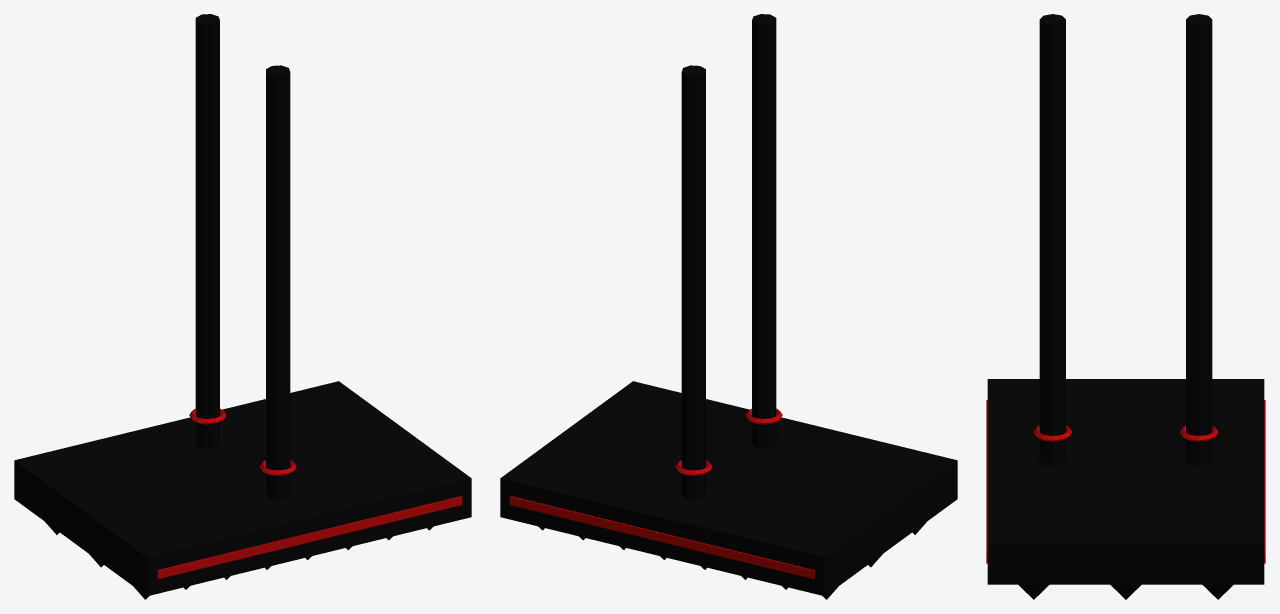
The model's file is crusher.glb.
3 views of the same model, side by side, from view 1: azimuth 30°, elevation 25°; view 2: azimuth 150°, elevation 25°; view 3: azimuth 270°, elevation 25° (orthographic). The views are drawn at different scales.
Parts seen in each view (by area): view 1: Crusher; view 2: Crusher; view 3: Crusher.
Part boxes in pixels (left/top/right/bottom): Crusher: left=14, top=14, right=471, bottom=599; Crusher: left=500, top=14, right=957, bottom=599; Crusher: left=986, top=14, right=1265, bottom=599.
Size of the model in its own units: 4.8 by 6.9 by 3.44.
